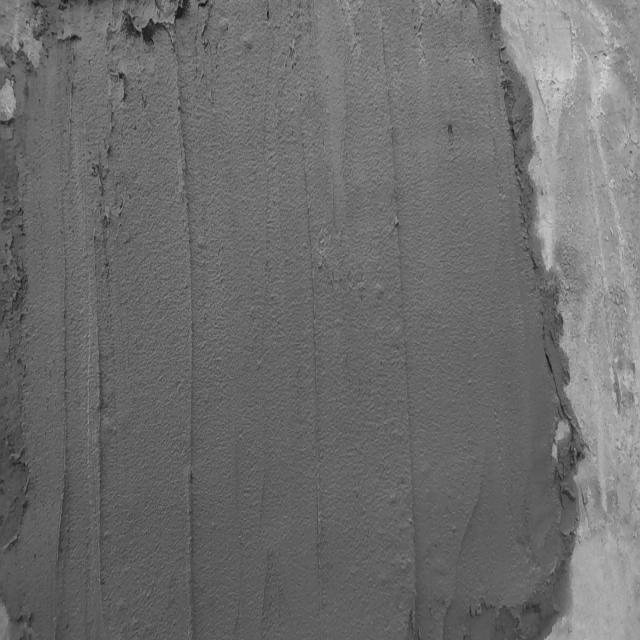trowels marks: (174, 72, 206, 640), (390, 116, 420, 587), (82, 146, 111, 622), (305, 182, 324, 411), (59, 256, 69, 600)
